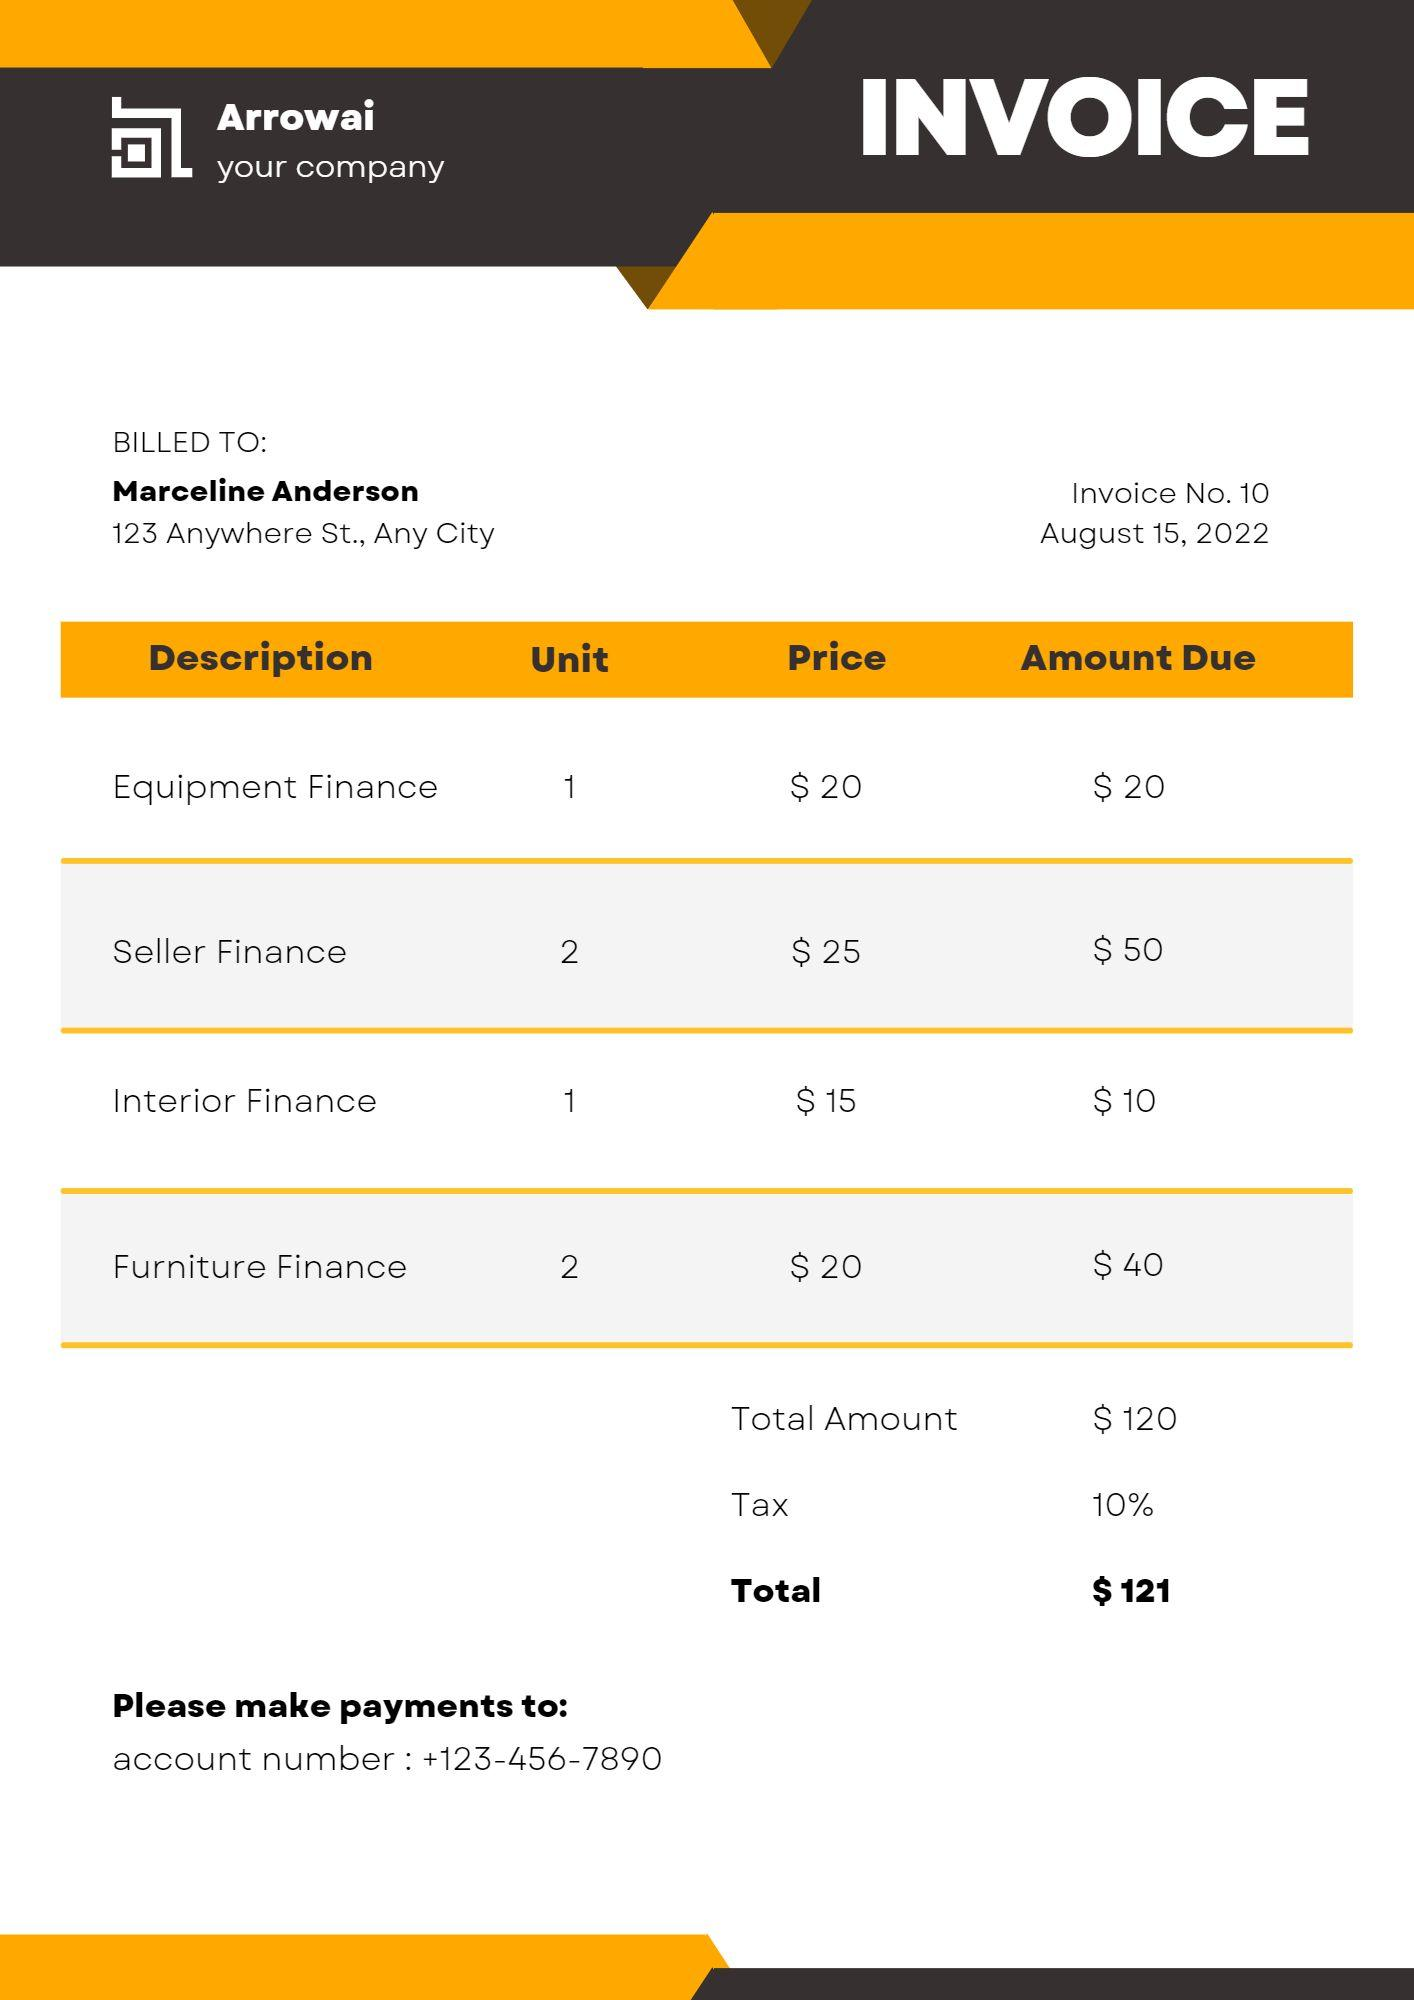ROI: (58, 615, 1350, 1358)
